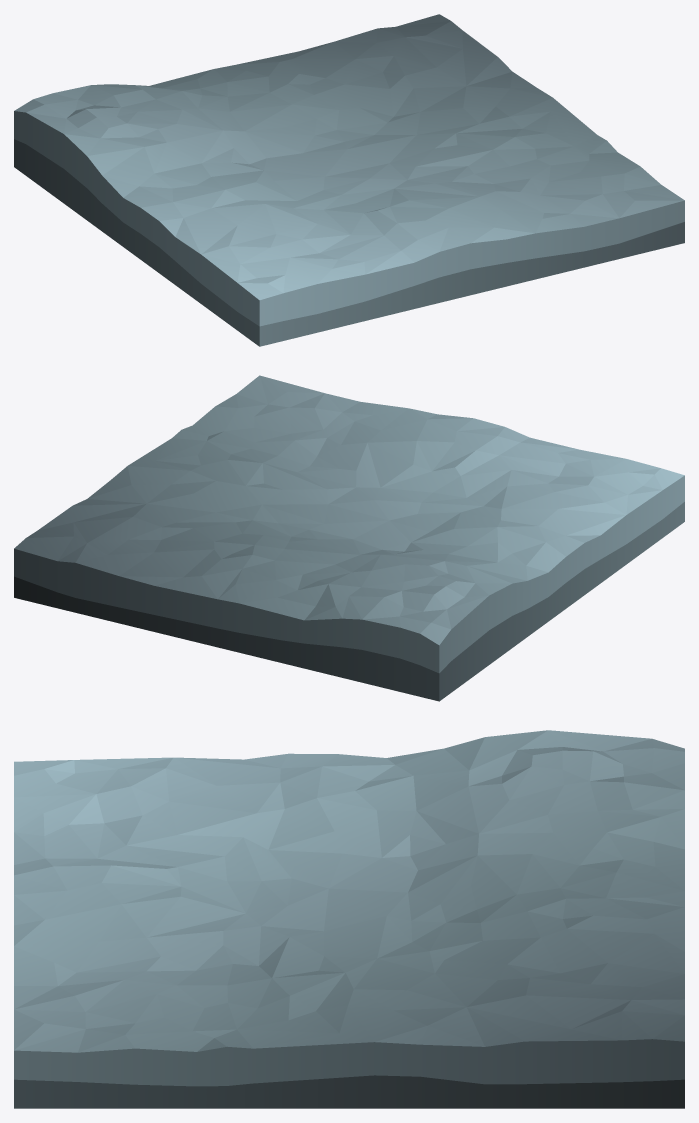
Rendered from land space shuttle launch.fbx.
The picture shows the model from 3 angles, top to bottom: view 1: azimuth 30°, elevation 25°; view 2: azimuth 150°, elevation 25°; view 3: azimuth 270°, elevation 25°; orthographic projection. The views are drawn at different scales.
Visible parts, largest first — view 1: land space shuttle launch; view 2: land space shuttle launch; view 3: land space shuttle launch.
Part boxes in pixels (bbox=[...]): land space shuttle launch: bbox=[14, 14, 684, 346]; land space shuttle launch: bbox=[14, 375, 684, 701]; land space shuttle launch: bbox=[14, 730, 684, 1108].
Size of the model in its own units: 4500 by 740 by 4500.
